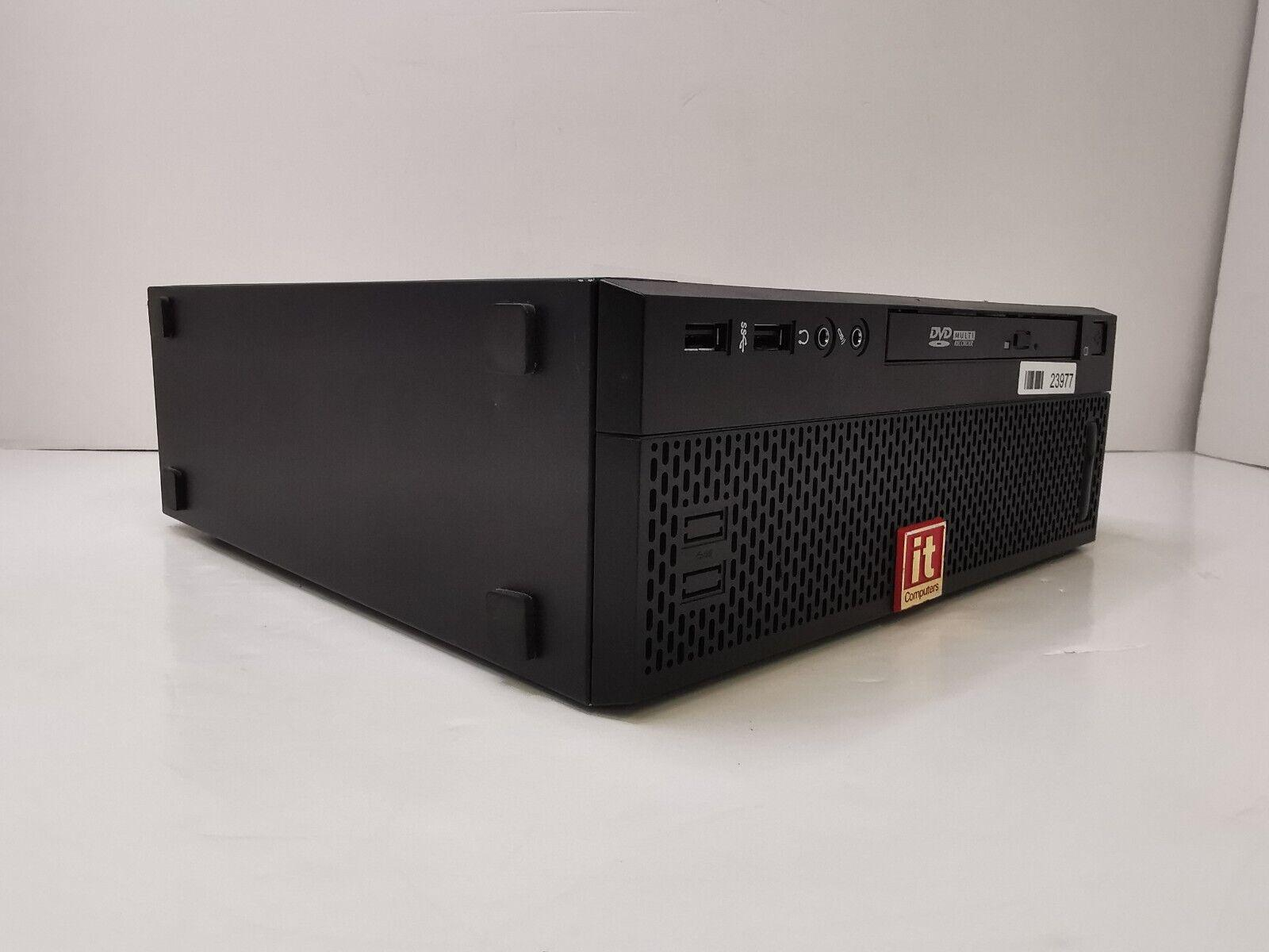DESKTOP PC: (140, 271, 1134, 727)
